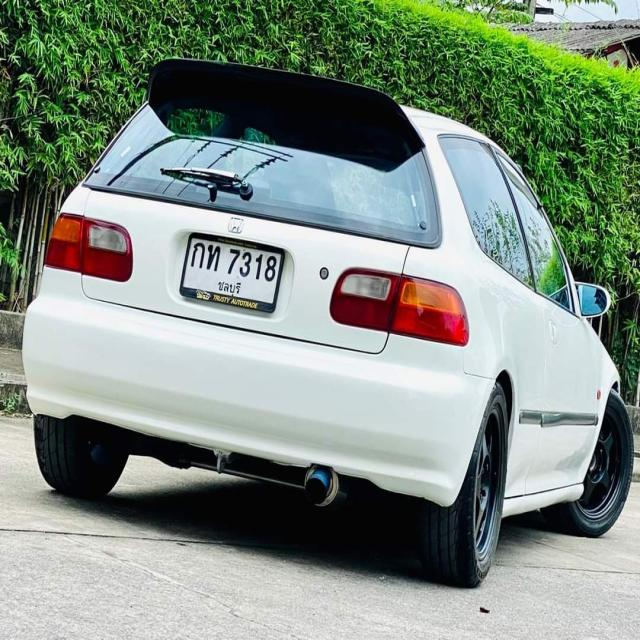license_plate: (180, 227, 288, 314)
